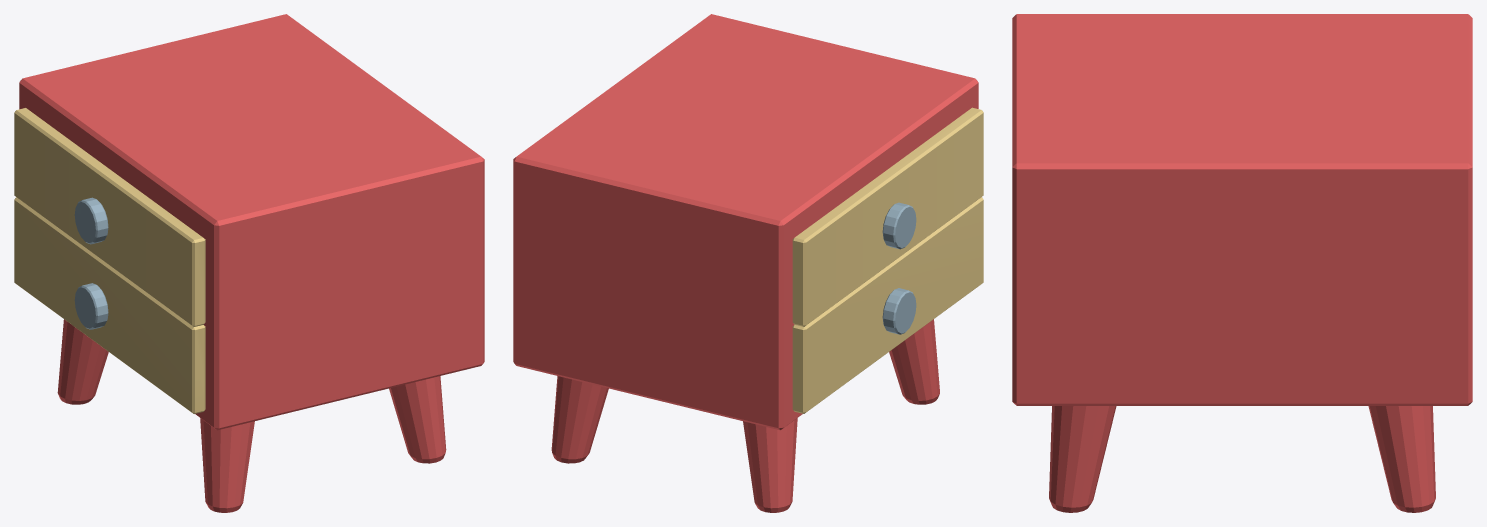
The model's file is pasted__Shelf_01.fbx.
3 renders of one model, left to right at view 1: azimuth 30°, elevation 25°; view 2: azimuth 150°, elevation 25°; view 3: azimuth 270°, elevation 25°, orthographic. The views are drawn at different scales.
Parts seen in each view (by area): view 1: pasted__Shelf_01; view 2: pasted__Shelf_01; view 3: pasted__Shelf_01.
Boxes of the visible parts, x1=… form: pasted__Shelf_01: x1=14, y1=14, x2=484, y2=512; pasted__Shelf_01: x1=513, y1=14, x2=983, y2=512; pasted__Shelf_01: x1=1012, y1=14, x2=1472, y2=512.
Size of the model in its own units: 56.57 by 56.48 by 65.19.
1 material, 1 textured.
